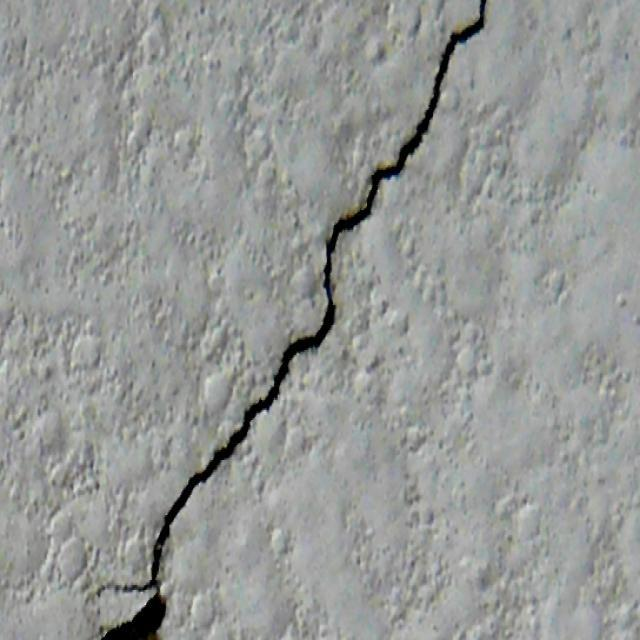Diagonal: (95, 0, 489, 640)
